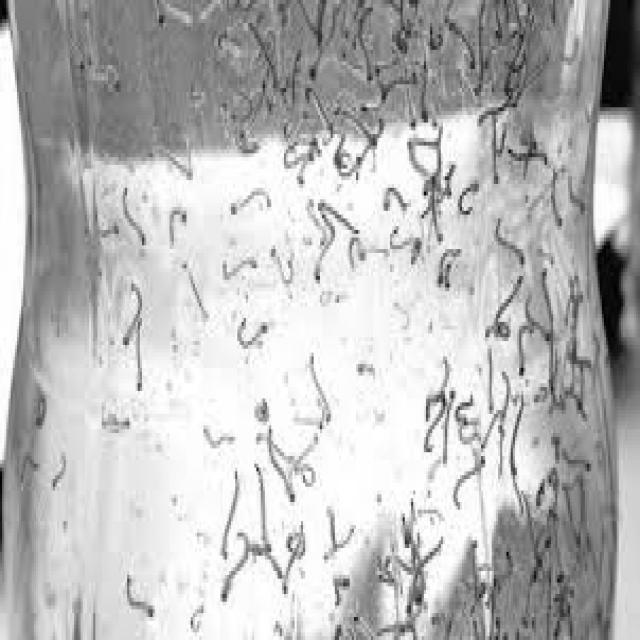larvas: (405, 537, 446, 615), (300, 0, 348, 62), (335, 125, 387, 175), (308, 11, 340, 84), (404, 524, 430, 607), (419, 166, 454, 224), (395, 40, 417, 132), (222, 532, 250, 604), (267, 433, 296, 500), (453, 454, 488, 508), (223, 104, 258, 157), (284, 434, 319, 484), (221, 467, 240, 558), (338, 102, 377, 146), (251, 24, 281, 81), (151, 145, 196, 182), (121, 186, 148, 246), (526, 536, 552, 598), (122, 282, 146, 349), (535, 352, 564, 406), (309, 353, 331, 424), (183, 266, 210, 322), (424, 360, 449, 420), (321, 202, 363, 235), (429, 0, 457, 49), (282, 523, 302, 591), (558, 372, 586, 420), (314, 210, 332, 284), (154, 0, 196, 31), (505, 34, 524, 102), (510, 396, 526, 476), (390, 222, 421, 262), (84, 59, 120, 93), (325, 512, 355, 552), (424, 393, 444, 453), (236, 317, 271, 351), (525, 490, 542, 558), (377, 549, 407, 587), (496, 278, 523, 320), (375, 613, 417, 640), (361, 3, 375, 84), (496, 225, 525, 264), (524, 296, 548, 343), (257, 441, 300, 467), (570, 311, 588, 373), (473, 0, 485, 92), (284, 140, 309, 184), (451, 23, 476, 67), (221, 34, 253, 68), (437, 240, 462, 283), (126, 579, 155, 616), (420, 126, 445, 168), (474, 102, 516, 127), (356, 238, 392, 267), (541, 269, 555, 343), (307, 91, 331, 134), (522, 116, 538, 180), (243, 84, 276, 115), (431, 178, 446, 244), (255, 464, 268, 538), (509, 144, 549, 168), (272, 245, 294, 288), (230, 189, 271, 212), (479, 410, 501, 452), (308, 194, 325, 248), (548, 339, 561, 409), (378, 79, 415, 103), (395, 0, 417, 40), (132, 316, 144, 388), (289, 48, 301, 120), (550, 170, 564, 231), (419, 49, 431, 120), (410, 142, 434, 177), (497, 366, 510, 430), (459, 177, 479, 218), (199, 427, 236, 448), (579, 473, 588, 559), (488, 585, 502, 640), (17, 454, 42, 484), (295, 448, 315, 485), (564, 453, 592, 479), (489, 116, 500, 182), (383, 186, 407, 216), (495, 548, 513, 587), (188, 600, 208, 635), (264, 547, 284, 582), (168, 210, 189, 243), (286, 524, 306, 558), (568, 172, 585, 212), (536, 473, 559, 502), (271, 1, 292, 32), (486, 347, 496, 412), (456, 392, 475, 426), (410, 504, 441, 524), (320, 290, 348, 312), (224, 258, 258, 276), (102, 412, 131, 433), (509, 1, 526, 35), (432, 613, 453, 640), (52, 452, 66, 492), (32, 391, 47, 428), (563, 34, 580, 66), (517, 324, 527, 378), (545, 0, 563, 30), (394, 300, 411, 330), (460, 418, 480, 443), (334, 570, 351, 599), (492, 1, 504, 42), (254, 395, 270, 425), (95, 217, 119, 237), (427, 459, 442, 490), (444, 259, 457, 293), (224, 0, 258, 13), (348, 224, 358, 268), (535, 244, 557, 264), (353, 617, 373, 638), (471, 541, 479, 592), (356, 358, 375, 378), (549, 612, 562, 640), (484, 325, 508, 339), (513, 477, 523, 509), (422, 178, 443, 193), (551, 436, 563, 461)
